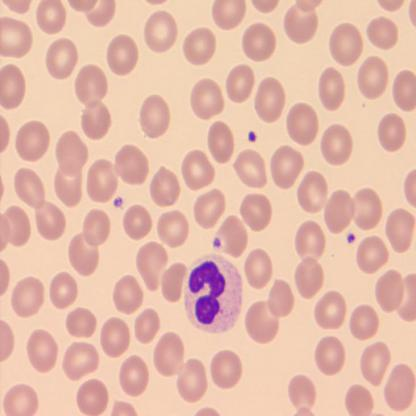Segmented neutrophil: (182, 252, 243, 335)
